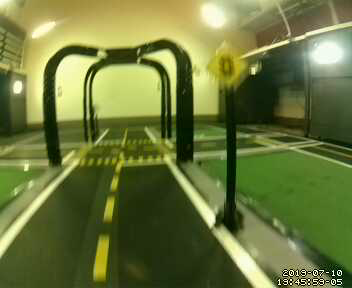Traffic light sign: (204, 46, 248, 90)
